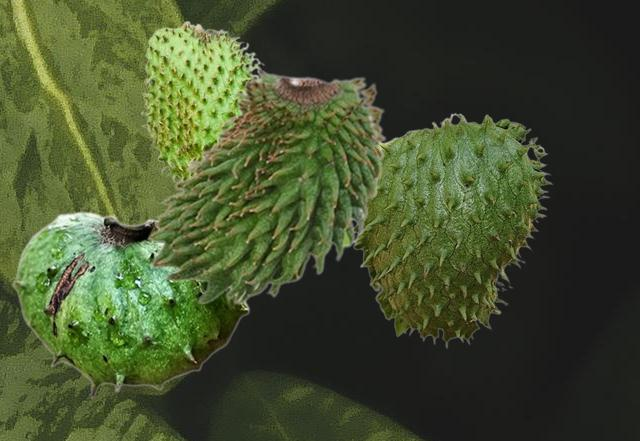guyabano: (146, 64, 386, 304), (352, 112, 552, 348), (12, 211, 249, 398), (140, 20, 265, 183)
